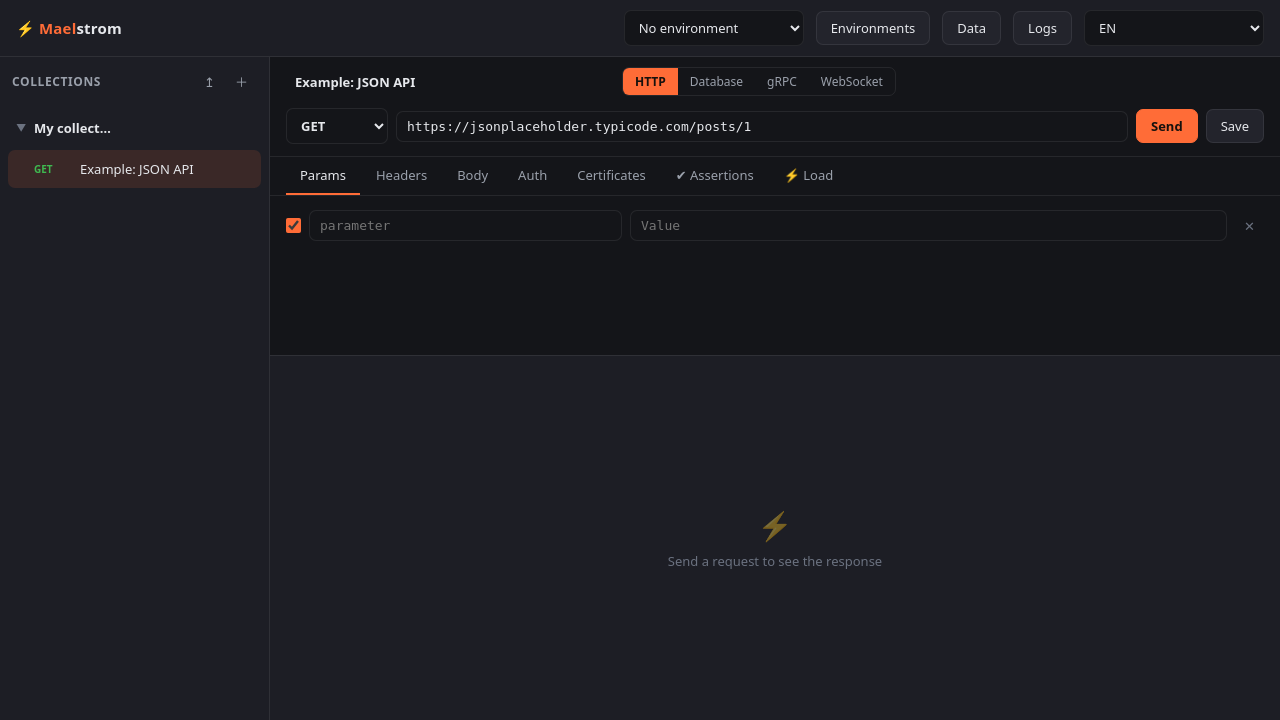
full flow: compose request → send → load test › exports the current request as a CLI scenario from the Load tab
Check: the field with placeholder "https://api.example.com/users?id={{user_id}}" is shown, box [396,110,1128,142]
// Load tab → "↓ Export for CI" opens the export dialog for the current request.
Step 1. Click the text "⚡ Load" → [808, 175], box [784,166,833,184]
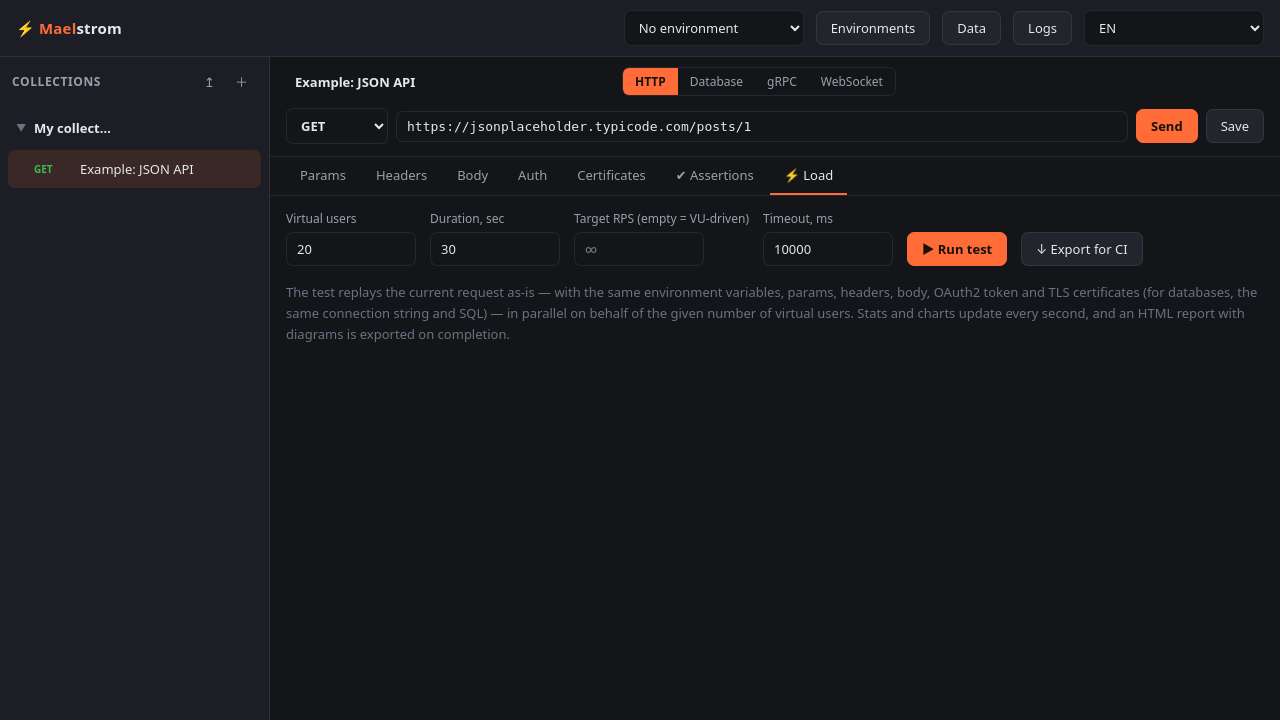
Step 2. Click the button "↓ Export for CI" → [1082, 249], box [1021,232,1143,266]
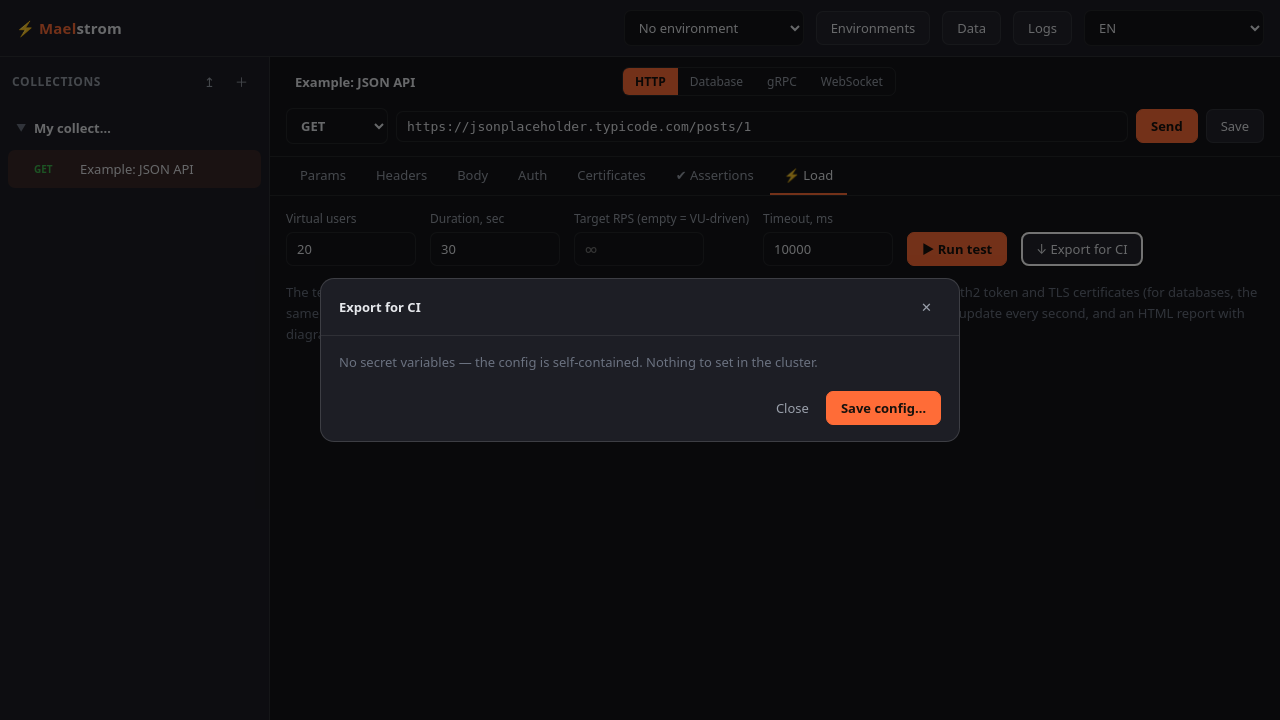
Check: the button "Save config…" is shown, box [826,391,941,425]
